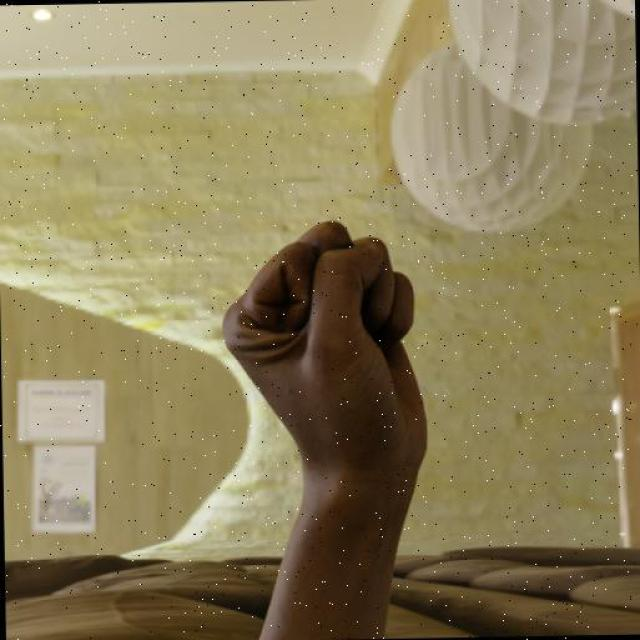S: (212, 212, 438, 490)
